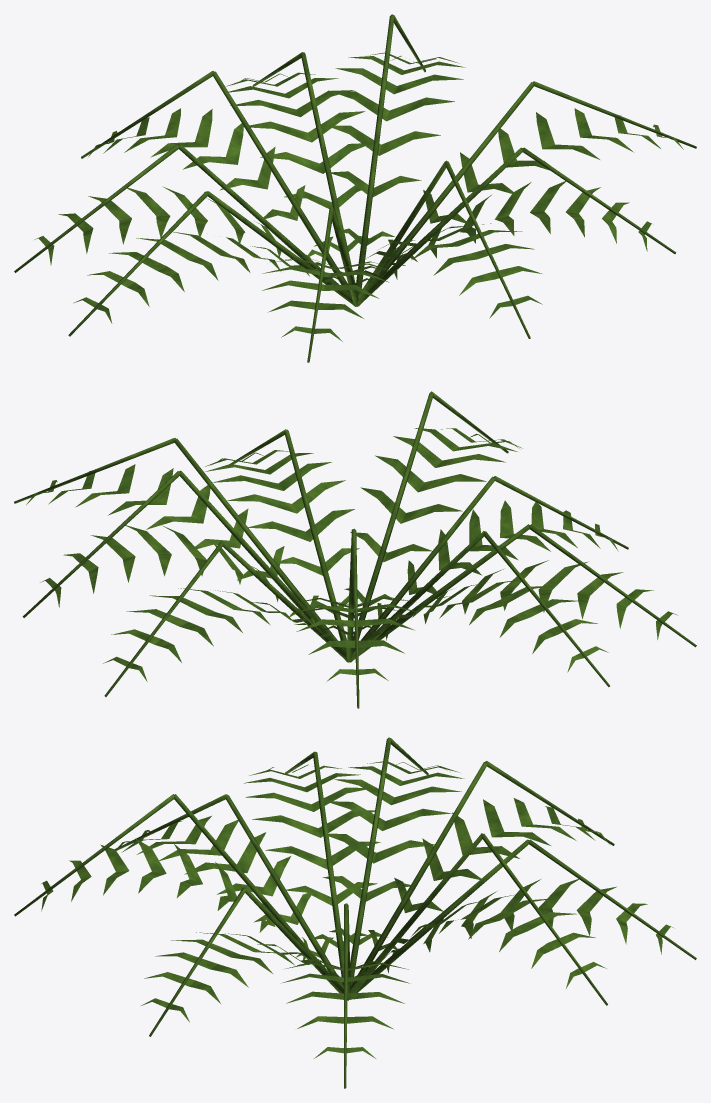
File: fern_clump.glb
3 renders of one model, top to bottom at view 1: azimuth 30°, elevation 25°; view 2: azimuth 150°, elevation 25°; view 3: azimuth 270°, elevation 25°, orthographic.
Visible parts, largest first — view 1: FernClump3D; view 2: FernClump3D; view 3: FernClump3D.
Boxes of the visible parts, x1=… form: FernClump3D: x1=14, y1=14, x2=696, y2=362; FernClump3D: x1=14, y1=391, x2=696, y2=708; FernClump3D: x1=14, y1=737, x2=696, y2=1088.
Size of the model in its own units: 0.9032 by 0.2844 by 0.8119.
1 material, 1 textured.
